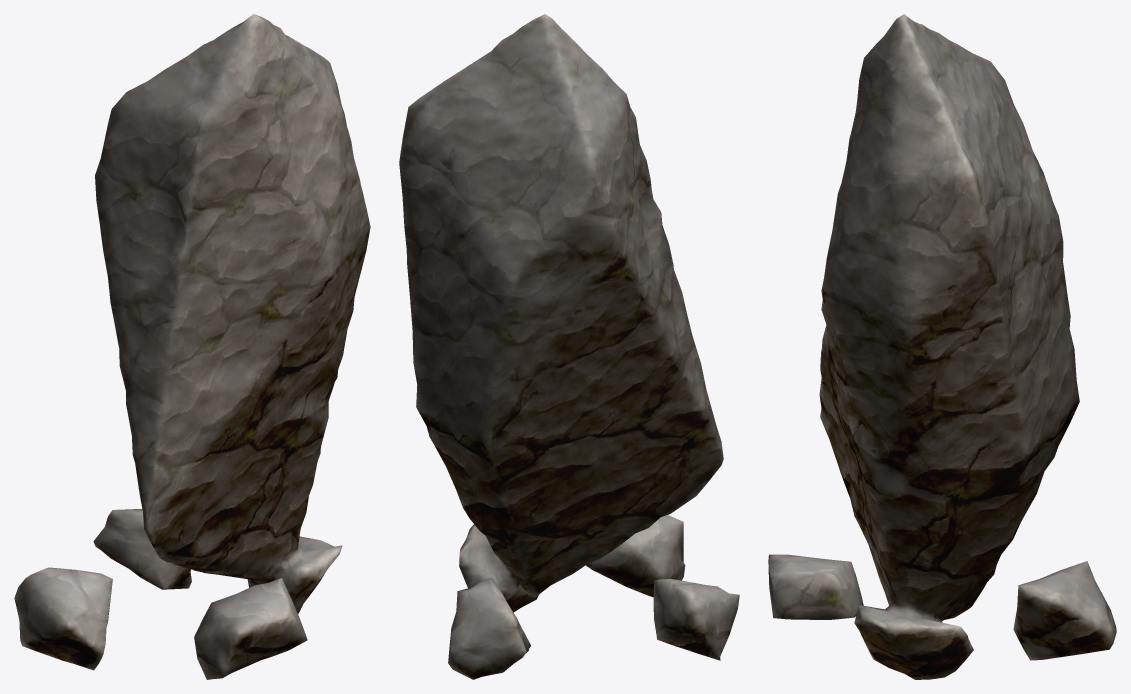
The model's file is boulder_tall_c.glb.
3 views of the same model, side by side, from view 1: azimuth 30°, elevation 25°; view 2: azimuth 150°, elevation 25°; view 3: azimuth 270°, elevation 25° (orthographic). The views are drawn at different scales.
Visible parts, largest first — view 1: rock; view 2: rock; view 3: rock.
Part boxes in pixels (x1=…): rock: x1=14, y1=14, x2=370, y2=679; rock: x1=399, y1=14, x2=739, y2=679; rock: x1=768, y1=14, x2=1116, y2=679.
Bounding box in the file's own units: 0.8957 × 1.62 × 0.7864.
Materials: 1 (1 with a texture image).
